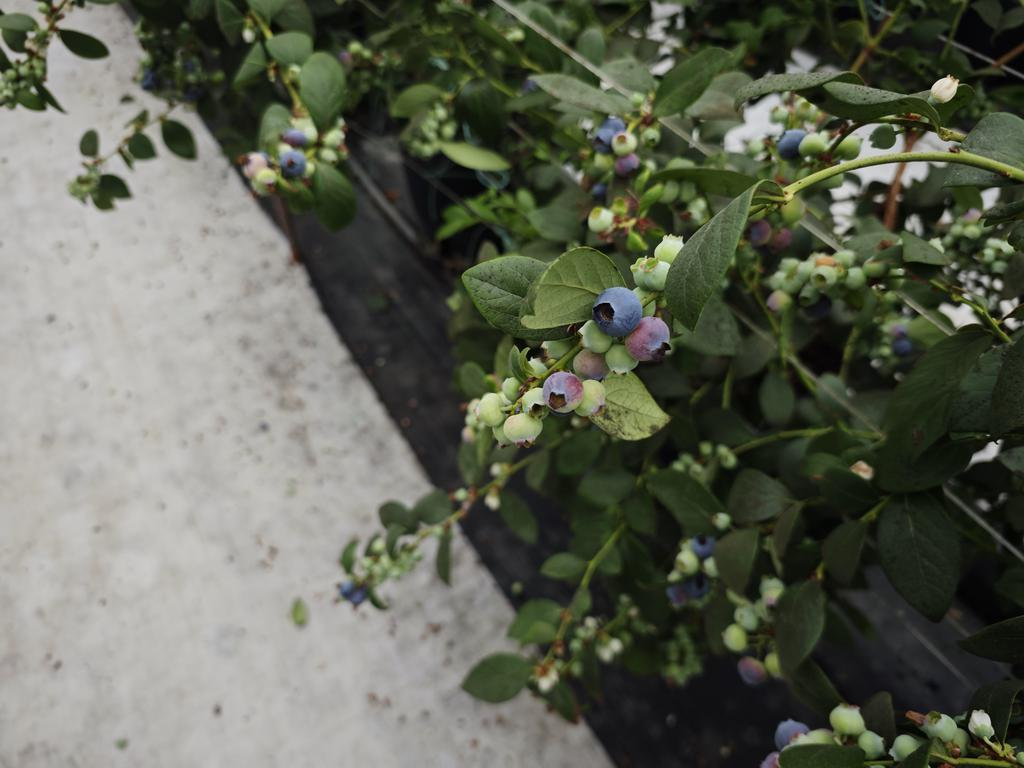RipeBlueBerry: (592, 282, 643, 336)
Semi-RipeBlueBerry: (626, 314, 682, 367), (538, 368, 588, 420)
